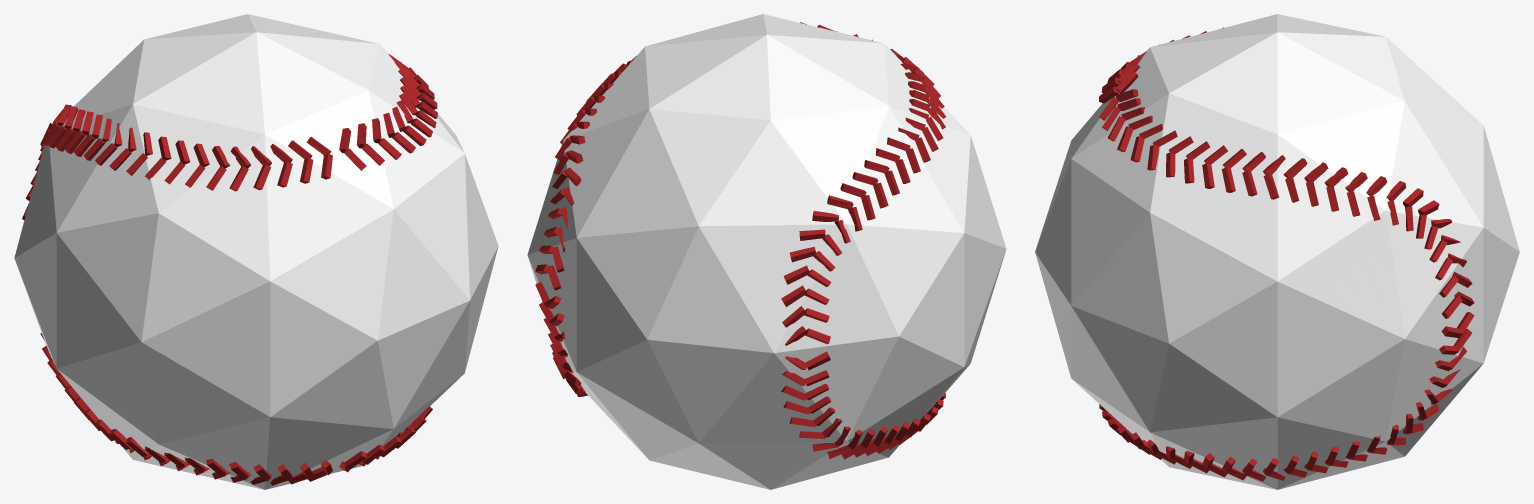
File: SM_Baseball.fbx
3 renders of one model, left to right at view 1: azimuth 30°, elevation 25°; view 2: azimuth 150°, elevation 25°; view 3: azimuth 270°, elevation 25°, orthographic.
Parts seen in each view (by area): view 1: SM_Baseball; view 2: SM_Baseball; view 3: SM_Baseball.
Boxes of the visible parts, left/top/right/bottom form: SM_Baseball: left=14, top=14, right=498, bottom=489; SM_Baseball: left=527, top=14, right=1006, bottom=489; SM_Baseball: left=1035, top=14, right=1519, bottom=489.
Size of the model in its own units: 190 by 200 by 200.
